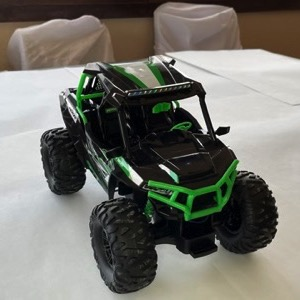polaris: (39, 53, 281, 297)
